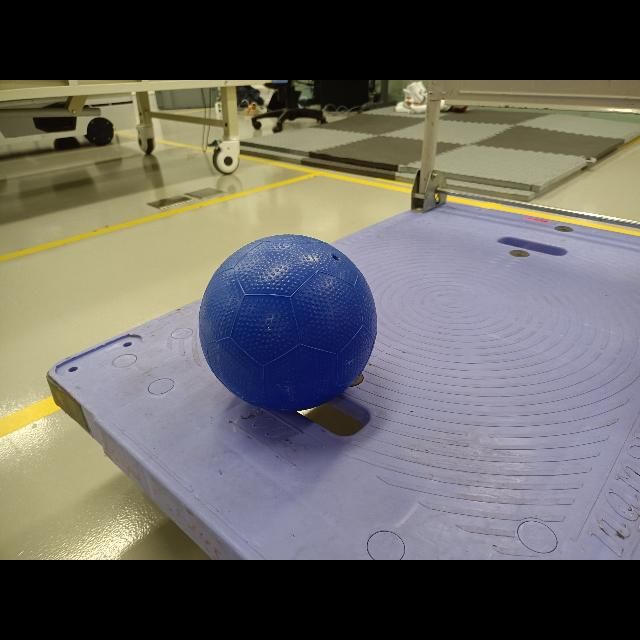B: (199, 233, 377, 411)
